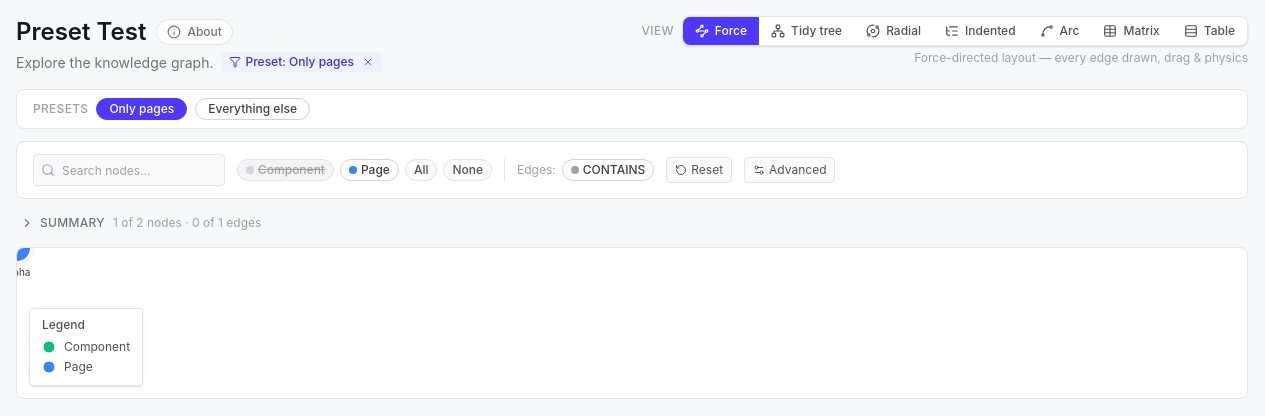
Test: Viewer presets › clicking a preset filters without changing the current view
Click the button "Indented" at (980, 31), box left=933, top=17, right=1028, bottom=45
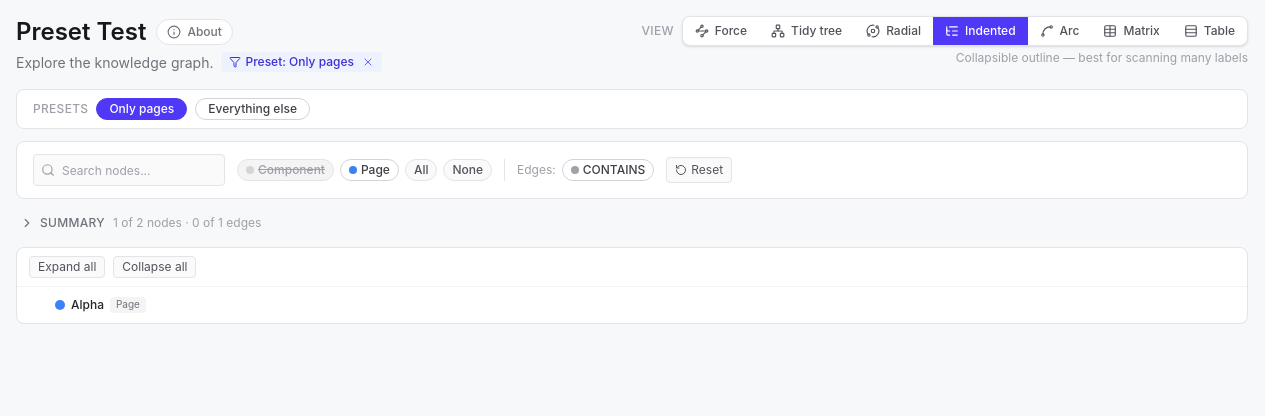
Click the button "Everything else" at (253, 109), box left=195, top=98, right=310, bottom=120
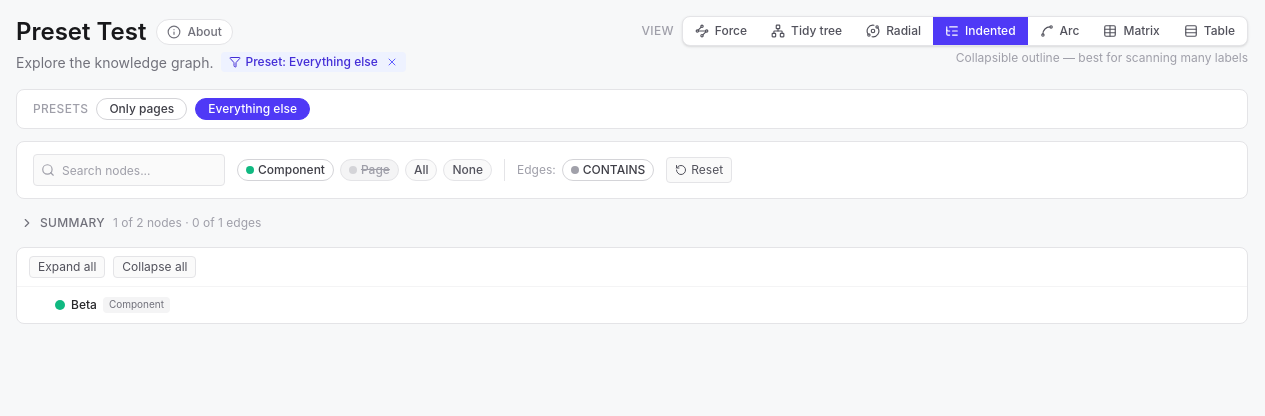
Expected: the text "Beta" is shown, left=71, top=297, right=97, bottom=313
Expected: the button "Alpha" is gone
Expected: the element with test id "active-preset-badge" shows "Everything else", left=289, top=54, right=378, bottom=69
